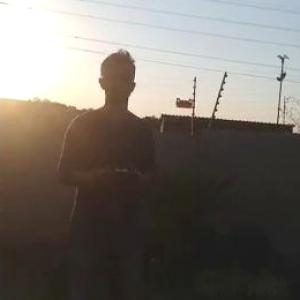follow: (50, 41, 158, 299)
